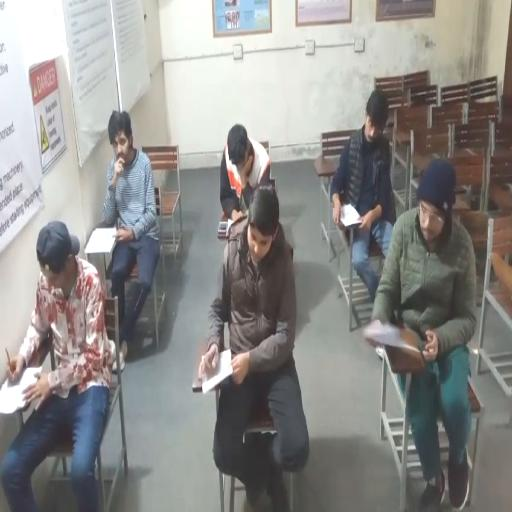paper: (0, 367, 41, 414), (364, 319, 420, 352), (202, 347, 234, 394), (88, 227, 118, 248), (340, 203, 362, 227), (217, 221, 237, 239)
